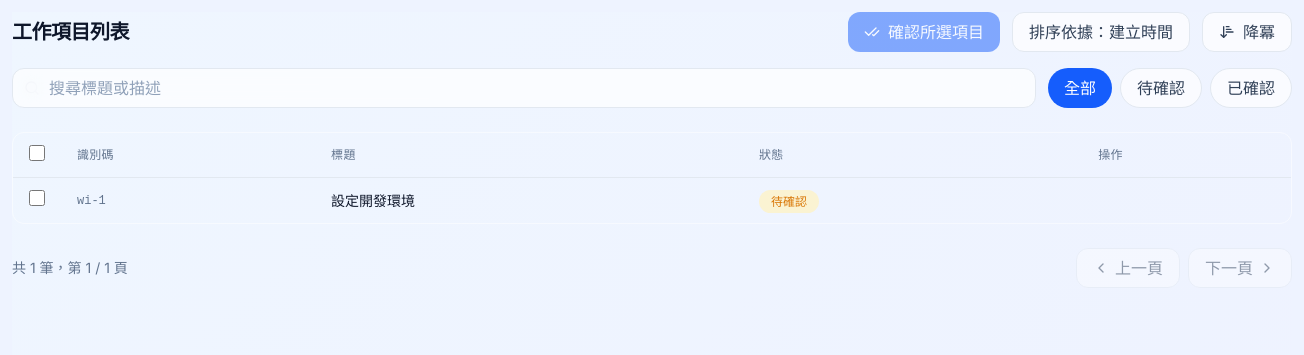
Test: WorkItemsList › 批量確認失敗時顯示錯誤並保留選取
Expected: the link "設定開發環境" is shown, [331,192,415,208]
Click the checkbox named "選取 設定開發環境".
click(37, 198)  # box [29,190,45,206]
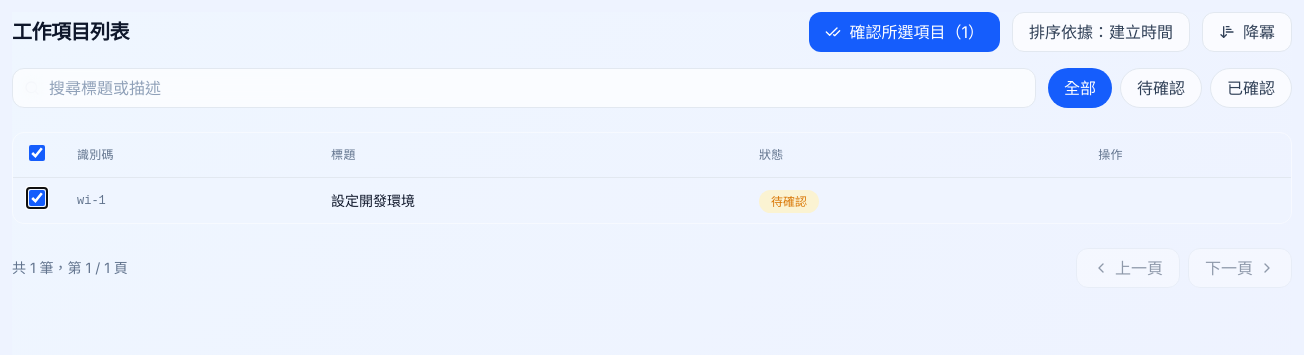
Click the button "確認所選項目（1）".
click(905, 32)  # box [809,12,1000,52]
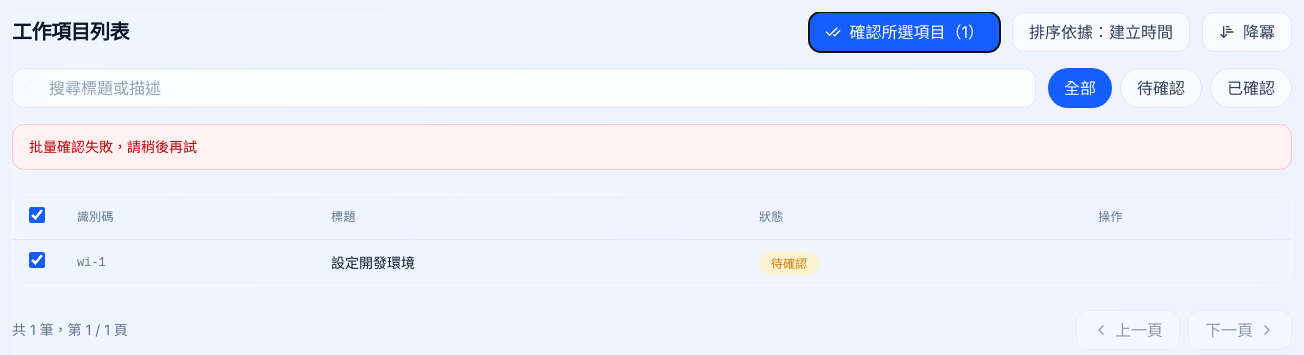
Now the button "確認所選項目（1）" is enabled, box [809,12,1000,52]
Now the text "批量確認失敗，請稍後再試" is shown, box [12,124,1292,170]
